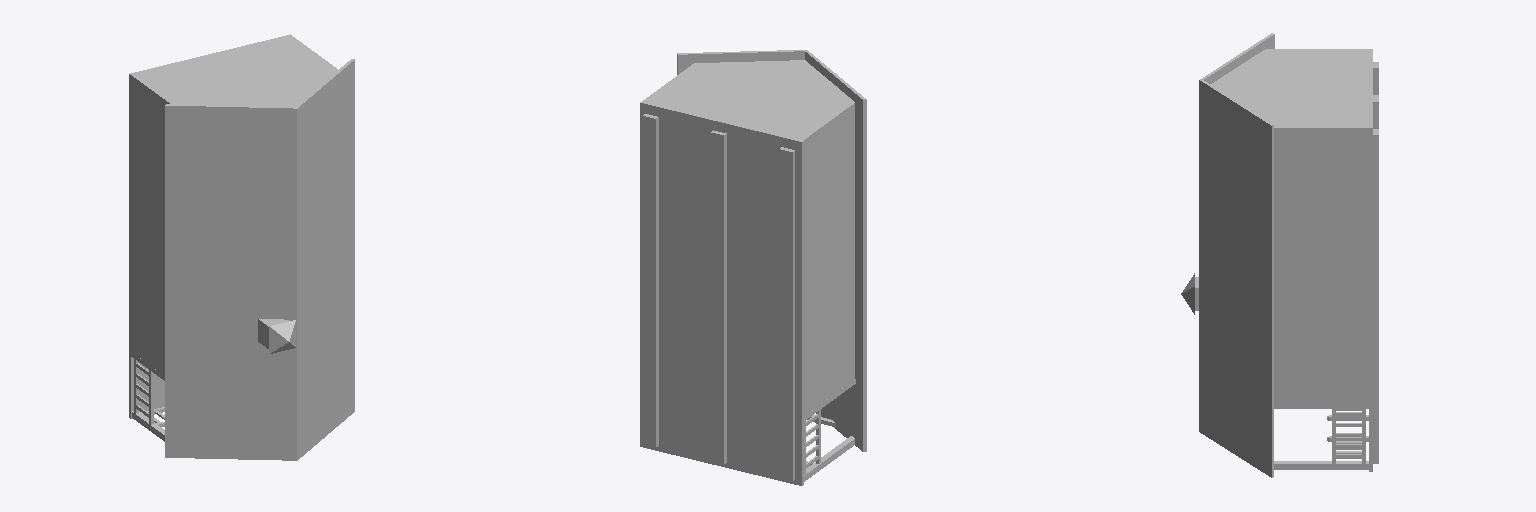
File: house.obj
3 views of the same model, side by side, from view 1: azimuth 30°, elevation 25°; view 2: azimuth 150°, elevation 25°; view 3: azimuth 270°, elevation 25° (orthographic).
Visible parts, largest first — view 1: house; view 2: house; view 3: house.
Boxes of the visible parts, x1=… form: house: x1=129, y1=34, x2=354, y2=460; house: x1=640, y1=50, x2=866, y2=485; house: x1=1181, y1=33, x2=1378, y2=477.
Size of the model in its own units: 8.55 by 15.2 by 7.71.